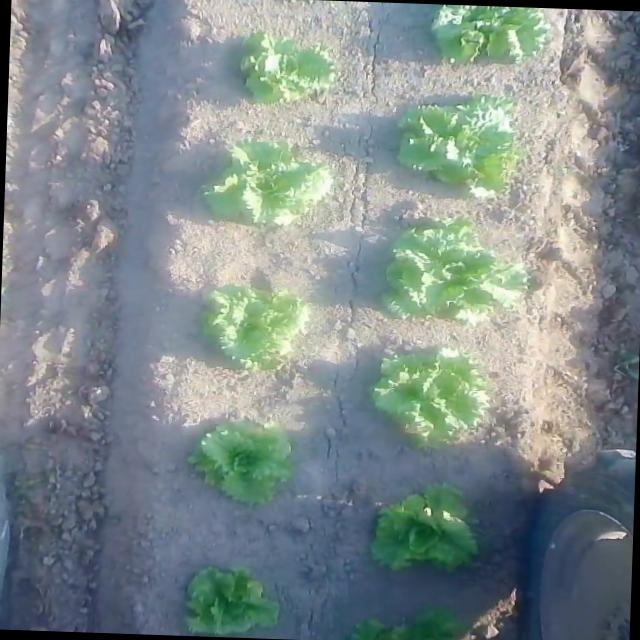Lettuce-Ready-to-Harvest: (338, 483, 493, 580)
